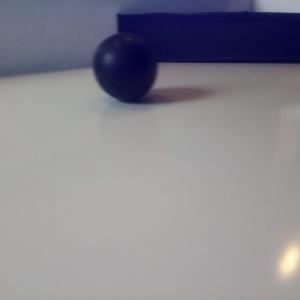zone: (117, 12, 300, 64)
